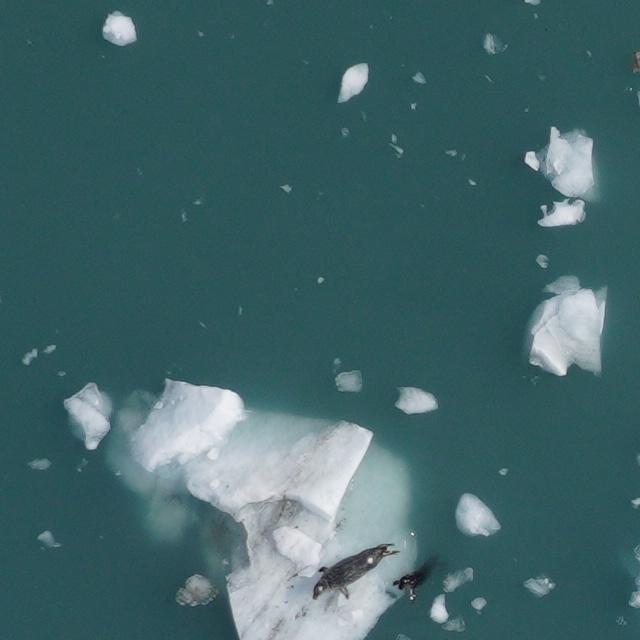seal: (301, 535, 409, 611), (391, 548, 438, 600)
